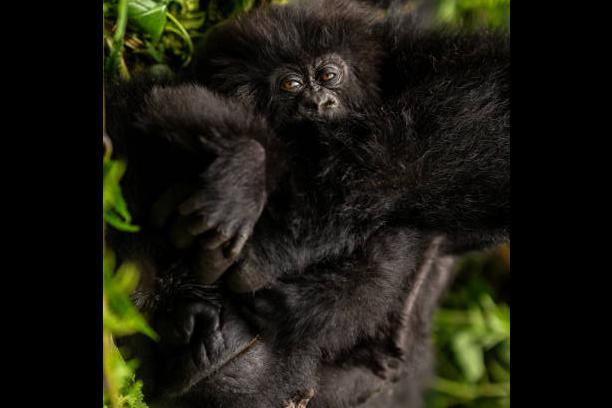goriile_montagne: (170, 0, 427, 301)
